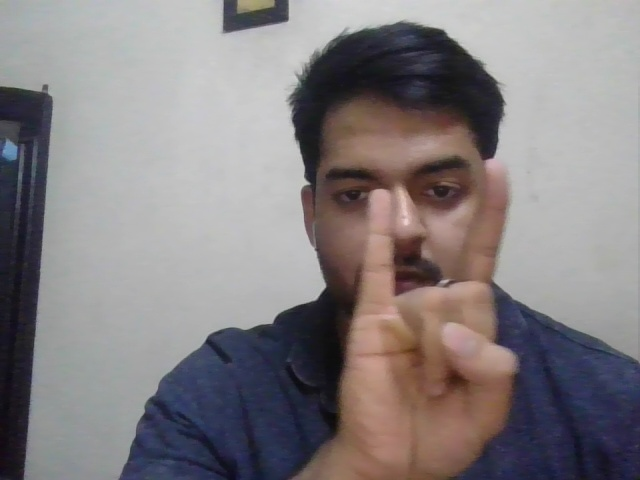iloveyou: (333, 158, 520, 479)
